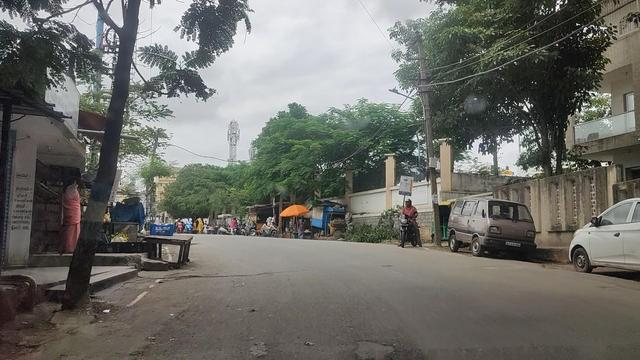RoadDamages: (341, 313, 405, 360)
